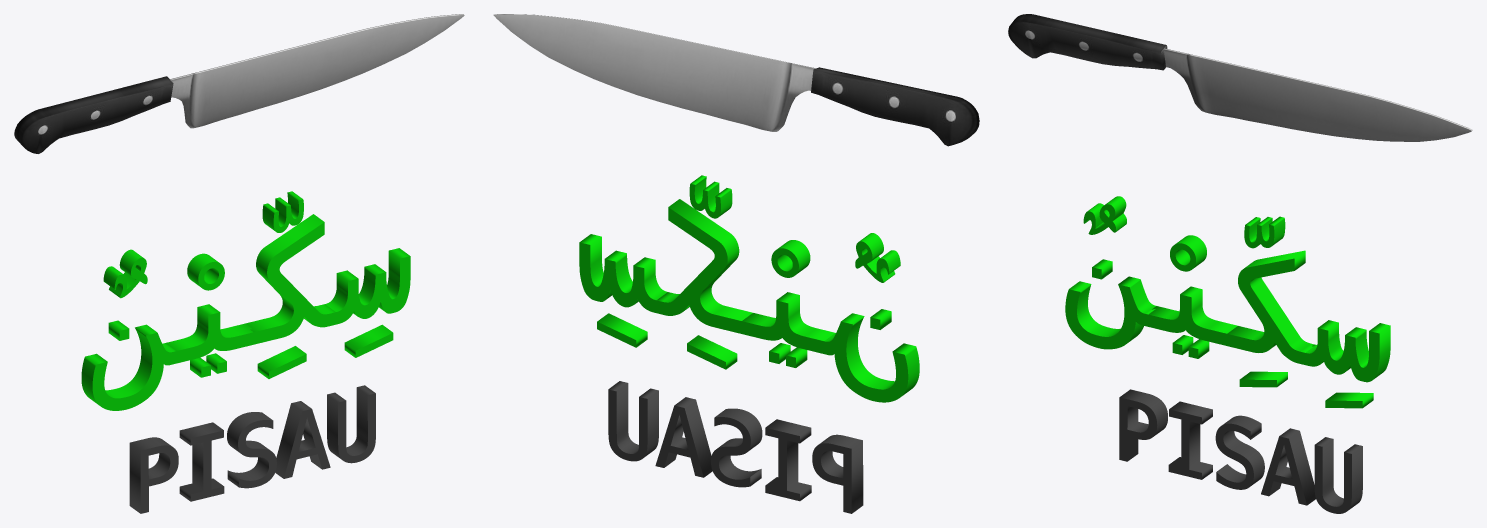
The model's file is Kitchenknife_lowpoly.fbx.
3 renders of one model, left to right at view 1: azimuth 30°, elevation 25°; view 2: azimuth 150°, elevation 25°; view 3: azimuth 330°, elevation 25°, orthographic. The views are drawn at different scales.
Visible parts, largest first — view 1: Teks, Blade, Teks.006, Handle, Teks.005, Teks.003, Teks.004, Teks.002, Teks.001; view 2: Blade, Teks, Teks.006, Handle, Teks.005, Teks.003, Teks.004, Teks.001, Teks.002; view 3: Teks, Blade, Teks.006, Handle, Teks.005, Teks.003, Teks.004, Teks.001, Teks.002.
Part boxes in pixels (x1=…): Teks: x1=81, y1=214, x2=410, y2=410; Blade: x1=170, y1=14, x2=464, y2=128; Teks.006: x1=129, y1=385, x2=375, y2=513; Handle: x1=14, y1=76, x2=173, y2=153; Teks.005: x1=103, y1=249, x2=147, y2=298; Teks.003: x1=262, y1=191, x2=303, y2=232; Teks.004: x1=187, y1=253, x2=224, y2=290; Teks.002: x1=257, y1=346, x2=306, y2=378; Teks.001: x1=344, y1=324, x2=393, y2=357; Blade: x1=493, y1=14, x2=815, y2=131; Teks: x1=579, y1=199, x2=919, y2=402; Teks.006: x1=608, y1=381, x2=863, y2=513; Handle: x1=811, y1=67, x2=979, y2=146; Teks.005: x1=855, y1=233, x2=900, y2=282; Teks.003: x1=689, y1=175, x2=732, y2=218; Teks.004: x1=771, y1=240, x2=810, y2=277; Teks.001: x1=597, y1=313, x2=647, y2=347; Teks.002: x1=687, y1=335, x2=737, y2=369; Teks: x1=1065, y1=250, x2=1390, y2=382; Blade: x1=1163, y1=48, x2=1472, y2=141; Teks.006: x1=1119, y1=389, x2=1362, y2=513; Handle: x1=1008, y1=14, x2=1167, y2=70; Teks.005: x1=1083, y1=196, x2=1126, y2=234; Teks.003: x1=1244, y1=216, x2=1285, y2=248; Teks.004: x1=1170, y1=235, x2=1206, y2=271; Teks.001: x1=1325, y1=392, x2=1373, y2=408; Teks.002: x1=1239, y1=371, x2=1287, y2=387.
Bounding box in the file's own units: 476 × 421 × 45.02.
